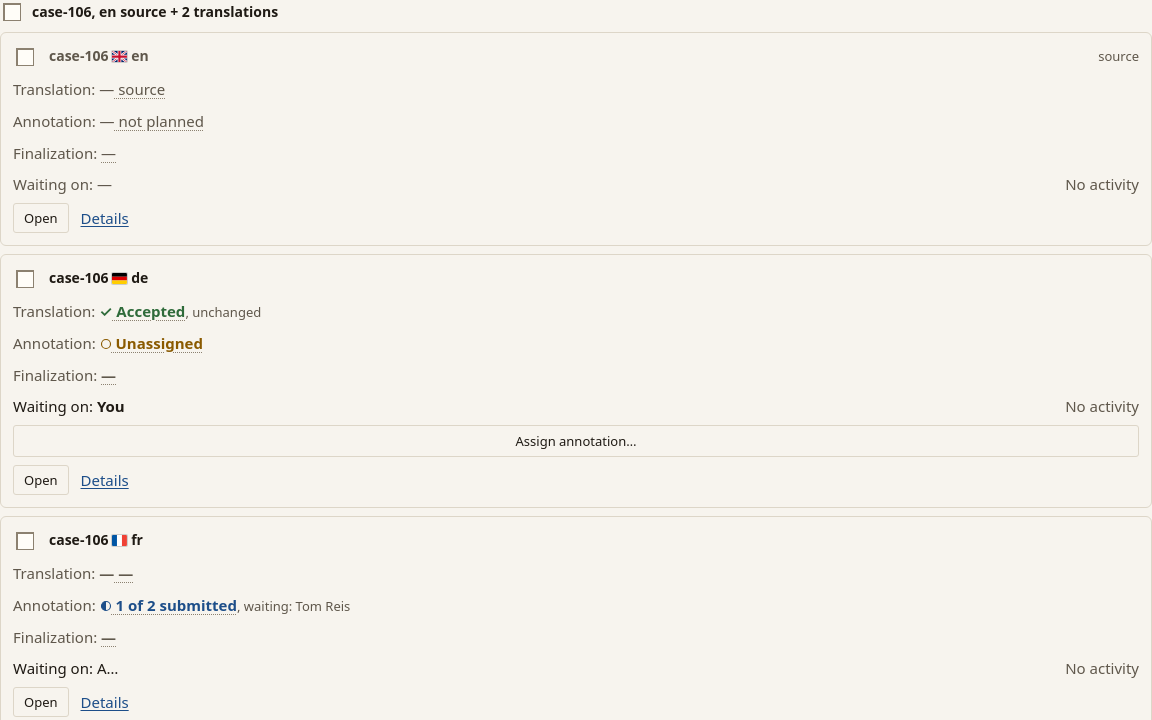
cards › Escape closes the stage popover and returns focus to the stage cell
The width and height of the screenshot is (1152, 720).
Click the button with aria-label "Translation: Accepted. Show history, case-106 de": (142, 311) [99,299,185,323]
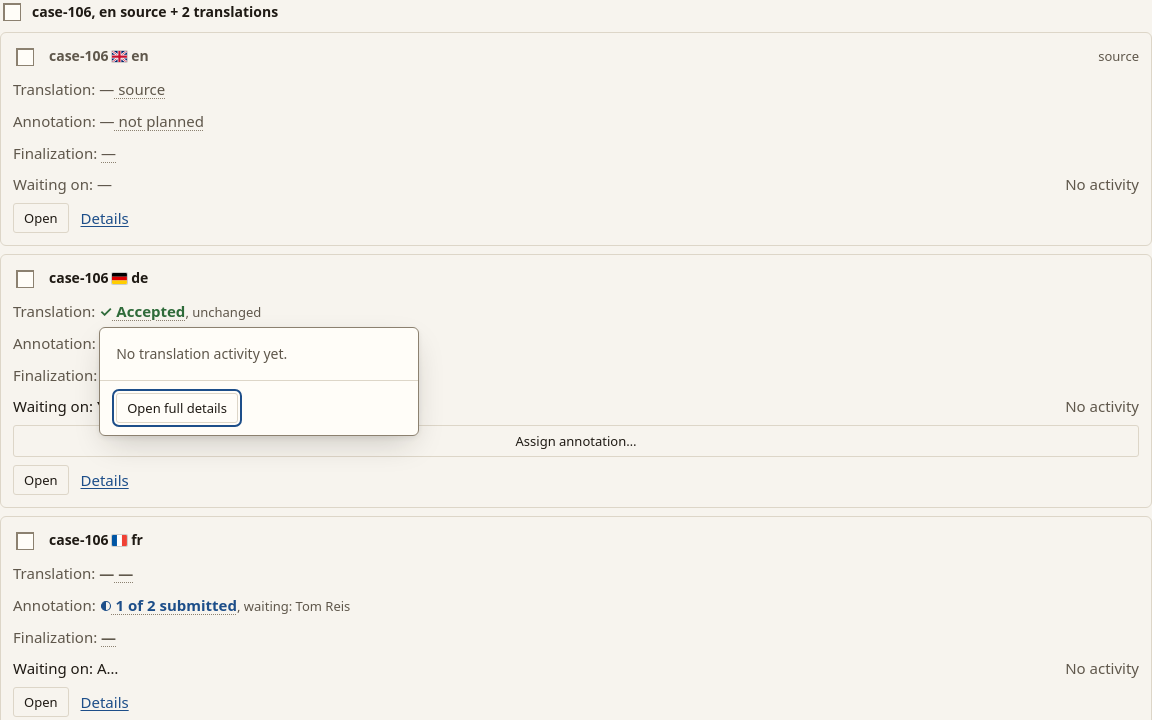
Expected: the text "No translation activity yet." is shown, [116,344,287,363]
Press Escape in the button "Open full details", box [116,393,238,423]
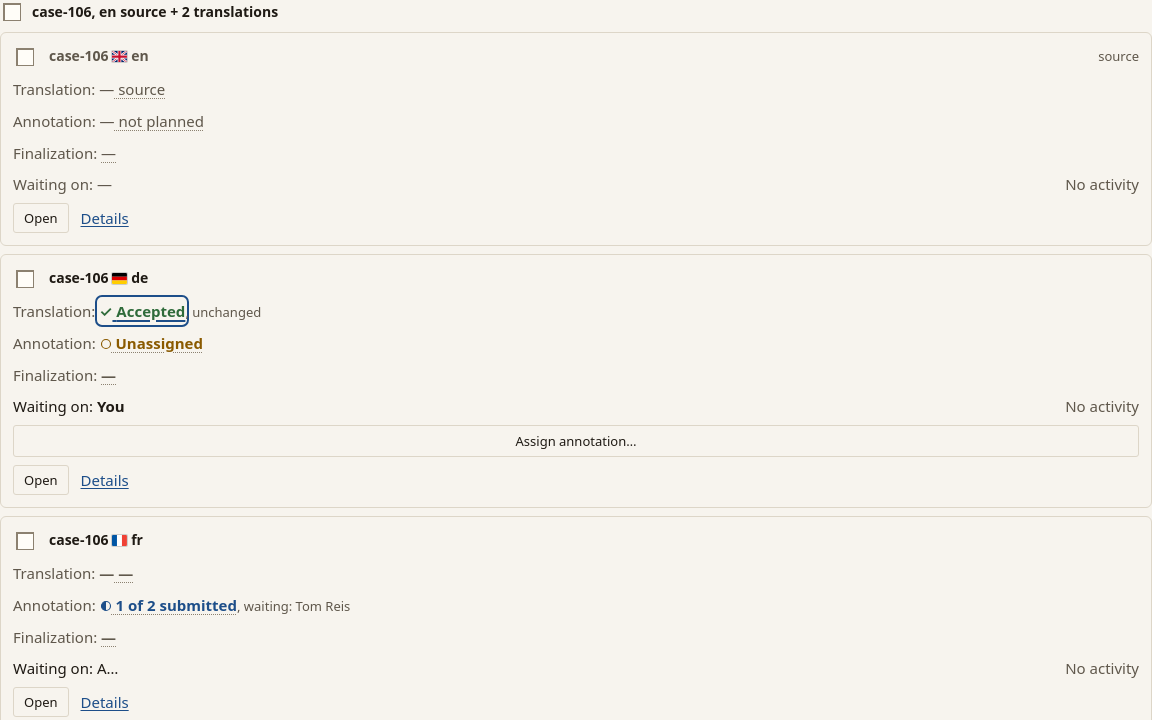
Expected: the dialog is gone
